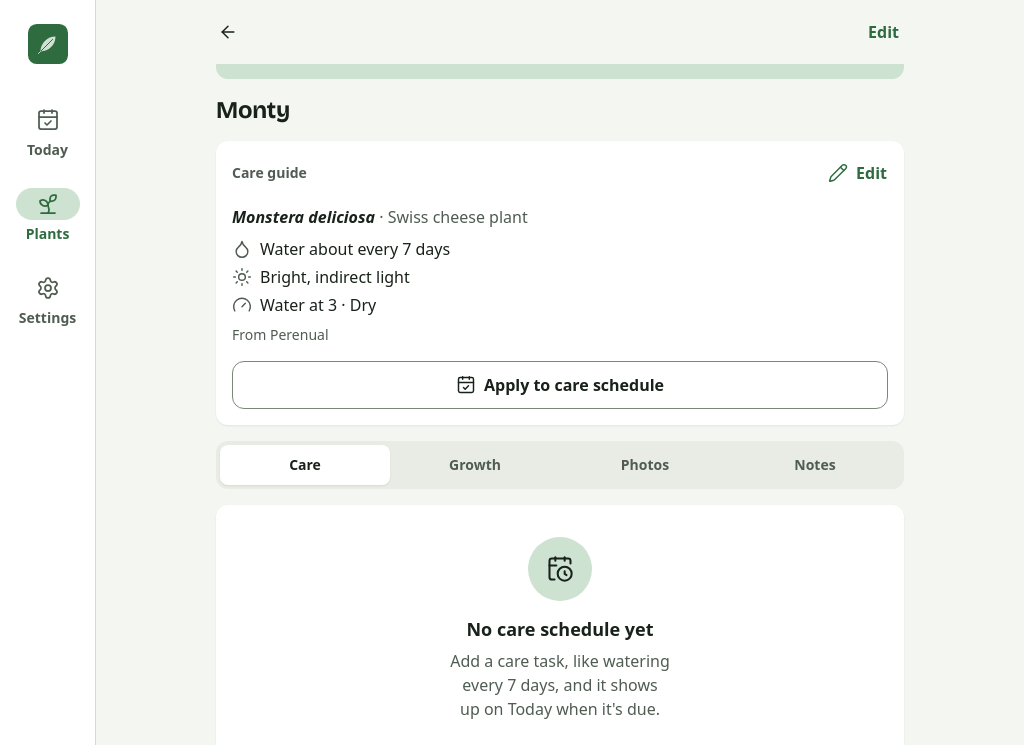
Care guide › adds a water task and says so
(page scrolled)
Expected: the heading "No care schedule yet" is shown, [466,617,654,641]
Step 1. Click the button "Apply to care schedule" → (560, 385), box [232,361,888,409]
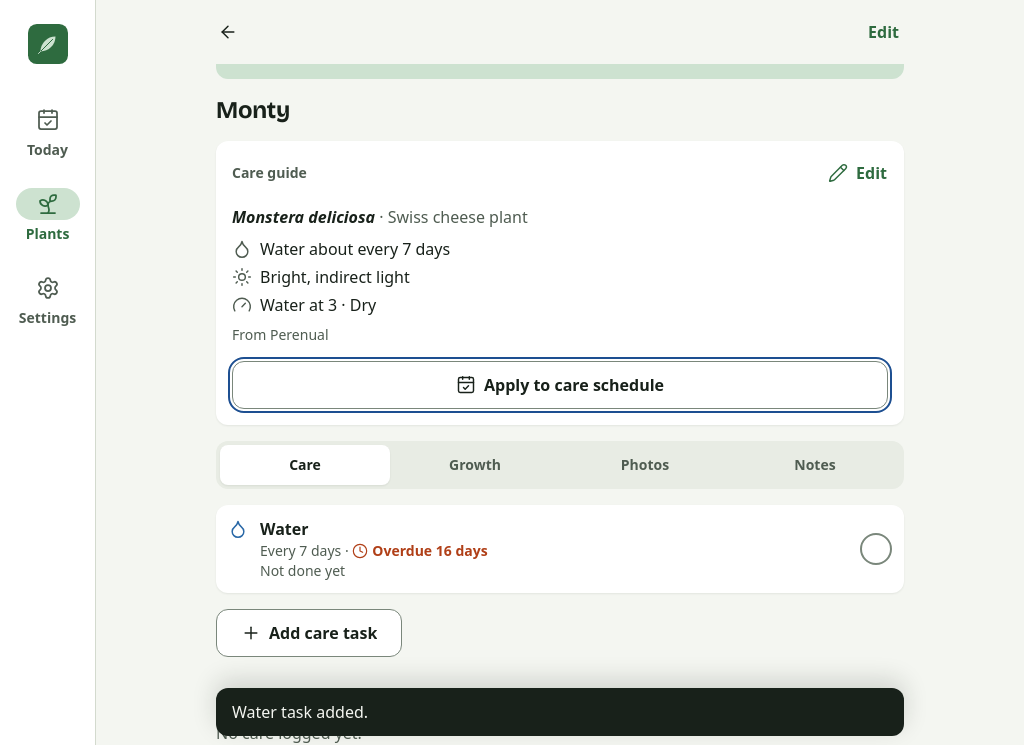
Now the text "Water task added." is shown, box [232,701,368,723]
Now the text "Every 7 days · Overdue 16 days" is shown, box [260,541,488,561]
